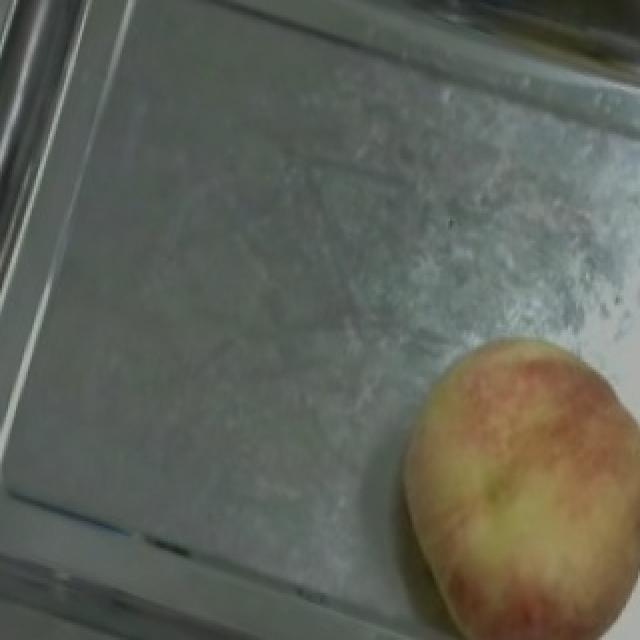Fruit: (350, 305, 640, 638)
